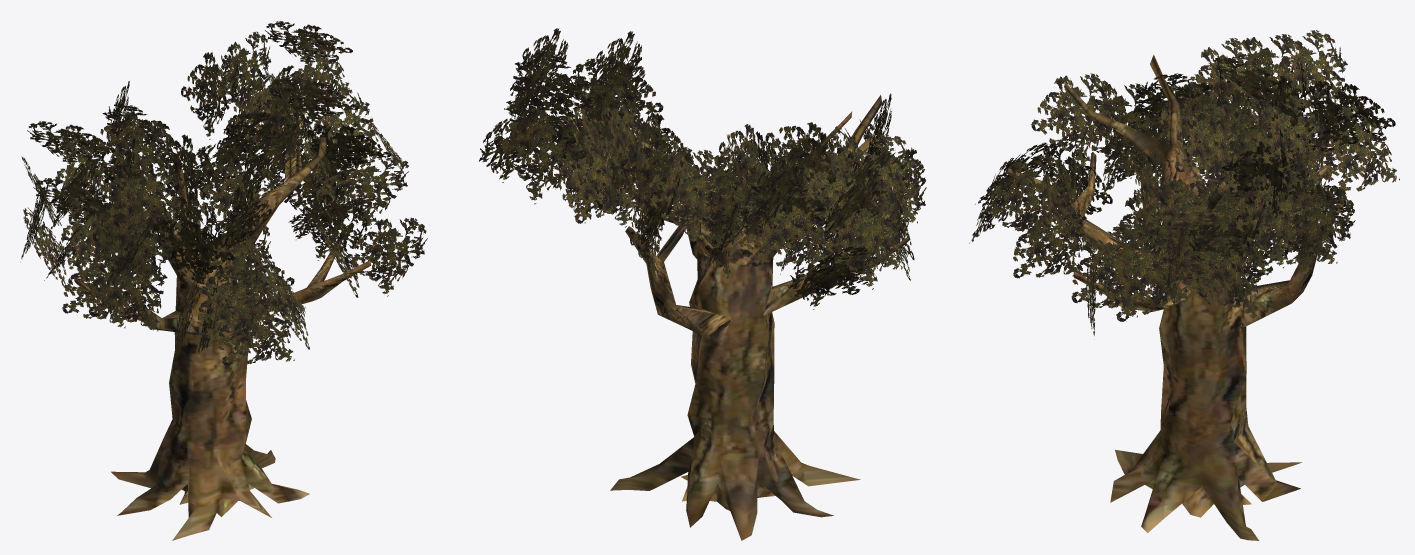
The picture shows the model from 3 angles, left to right: view 1: azimuth 30°, elevation 25°; view 2: azimuth 150°, elevation 25°; view 3: azimuth 270°, elevation 25°; orthographic projection. The views are drawn at different scales.
Parts seen in each view (by area): view 1: Tree02; view 2: Tree02; view 3: Tree02.
Boxes of the visible parts, x1,y1,x2,y2 form: Tree02: (20,21,427,540); Tree02: (479,28,926,540); Tree02: (969,30,1399,540).
Size of the model in its own units: 845 by 899 by 740.
